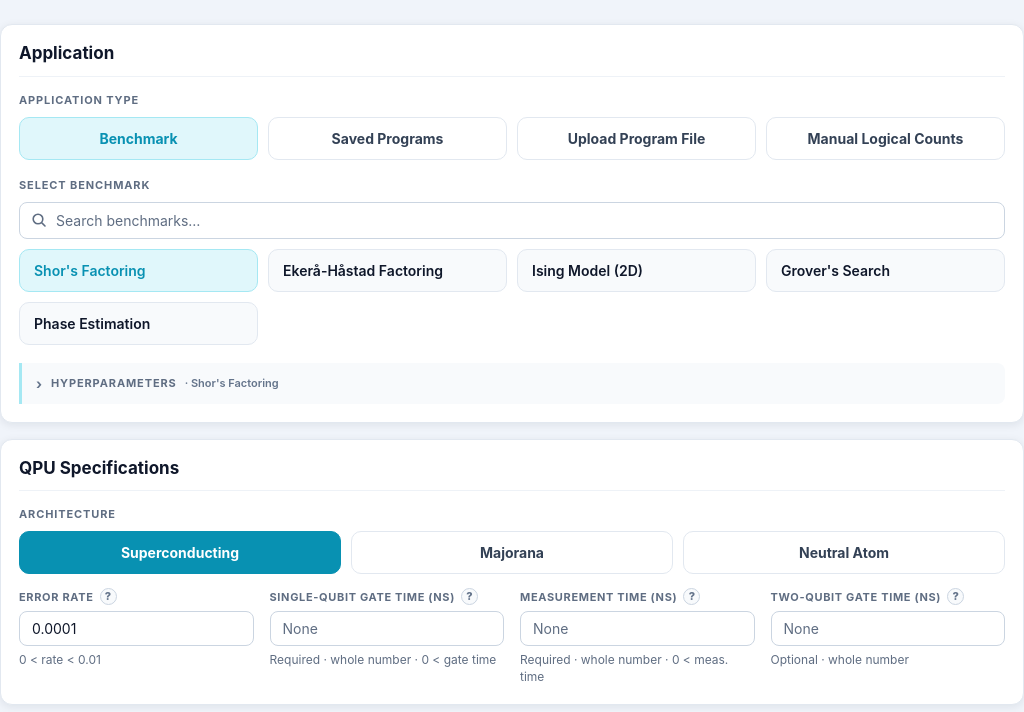
Scenario: Failure path (Retry / Edit configuration) › Edit configuration returns to the form from the failed state
This screenshot has width=1024, height=712.
Type "50" into the field labelled "Single-Qubit Gate Time (ns)" at (387, 629), box top-left (270, 611), bottom-right (504, 646)
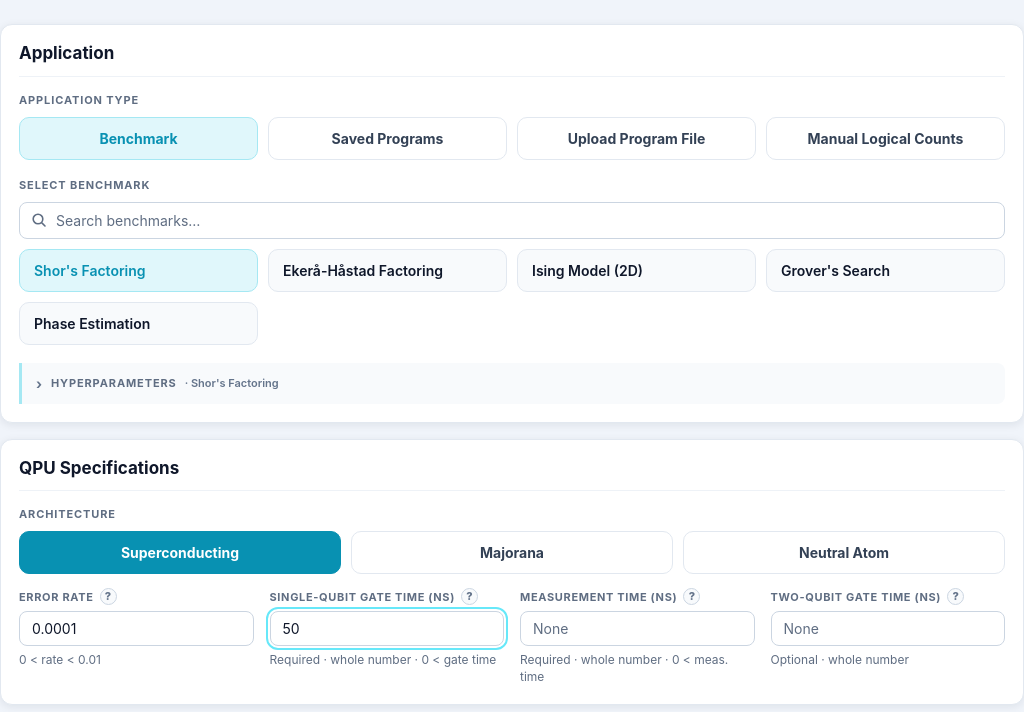
Type "100" into the field labelled "Measurement Time (ns)" at (637, 629), box top-left (520, 611), bottom-right (754, 646)
(page scrolled)
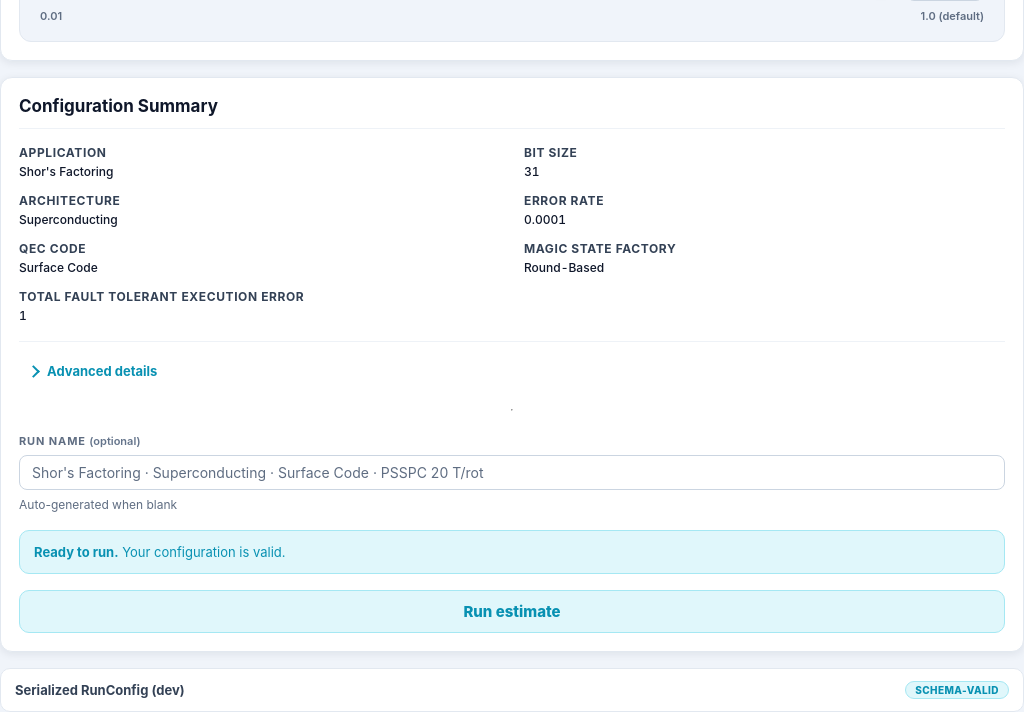
Click the button "Run estimate" at (512, 612), box top-left (19, 590), bottom-right (1005, 633)
(page scrolled)
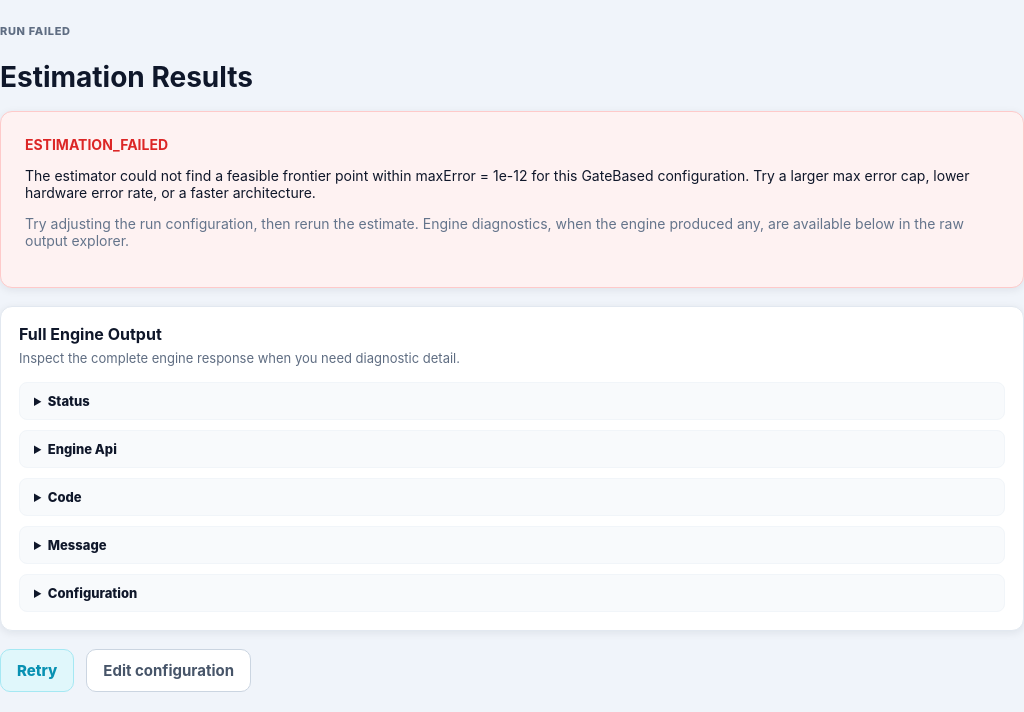
Result: the text "ESTIMATION_FAILED" is shown at top-left (25, 136), bottom-right (168, 153)
Click the button "Edit configuration" at (169, 671), box top-left (86, 649), bottom-right (251, 692)
(page scrolled)
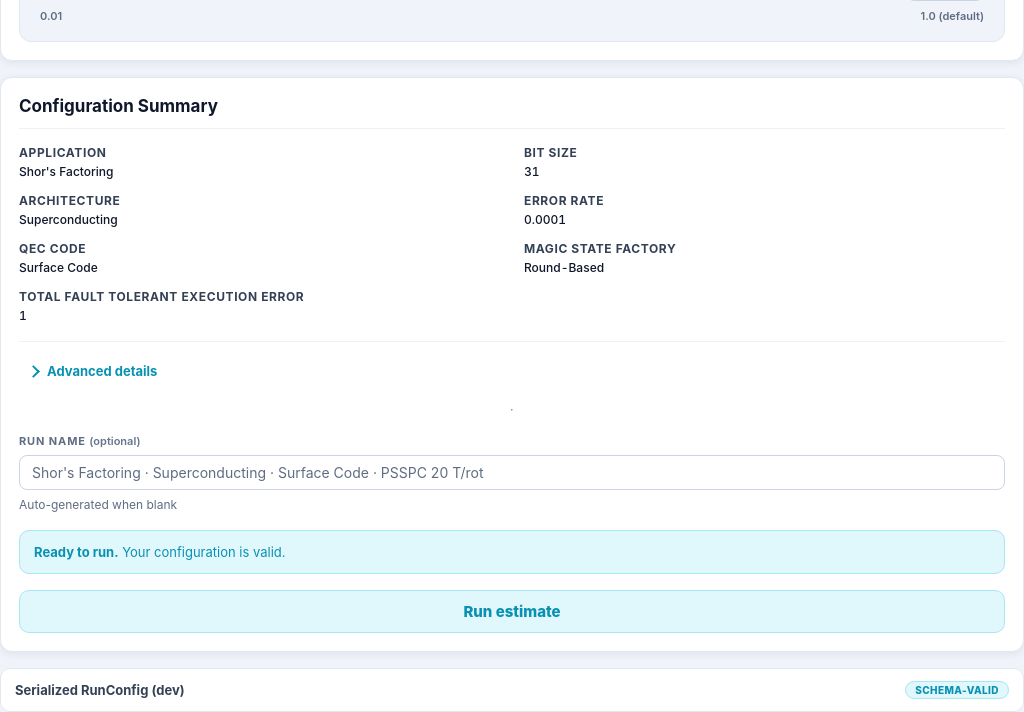
Result: the button "Run estimate" is shown at top-left (19, 590), bottom-right (1005, 633)
